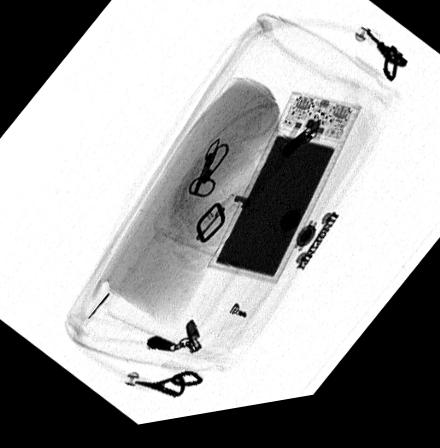Powerbank: (204, 102, 364, 295)
